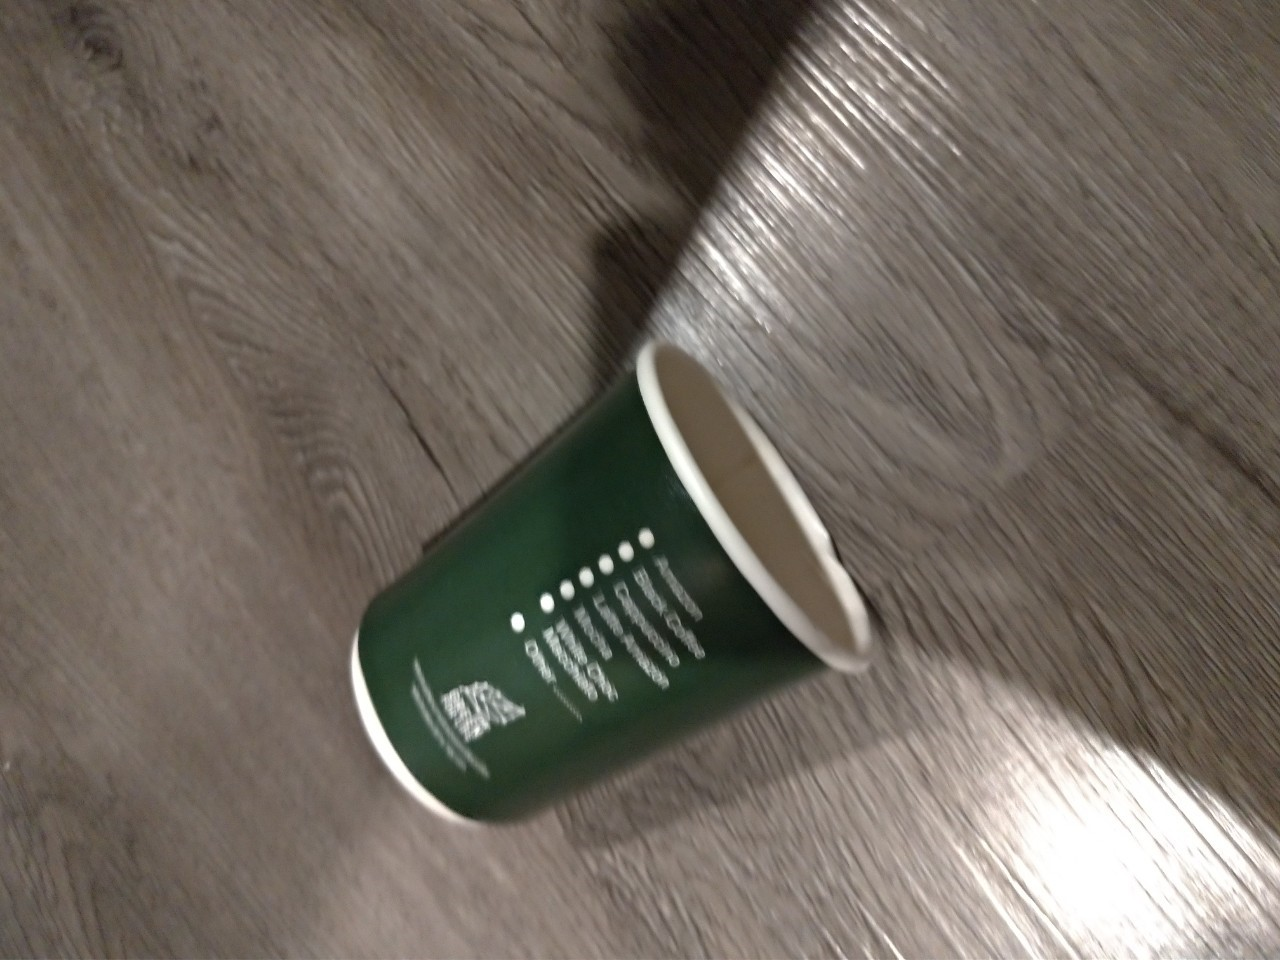PaperCup: (346, 342, 868, 830)
